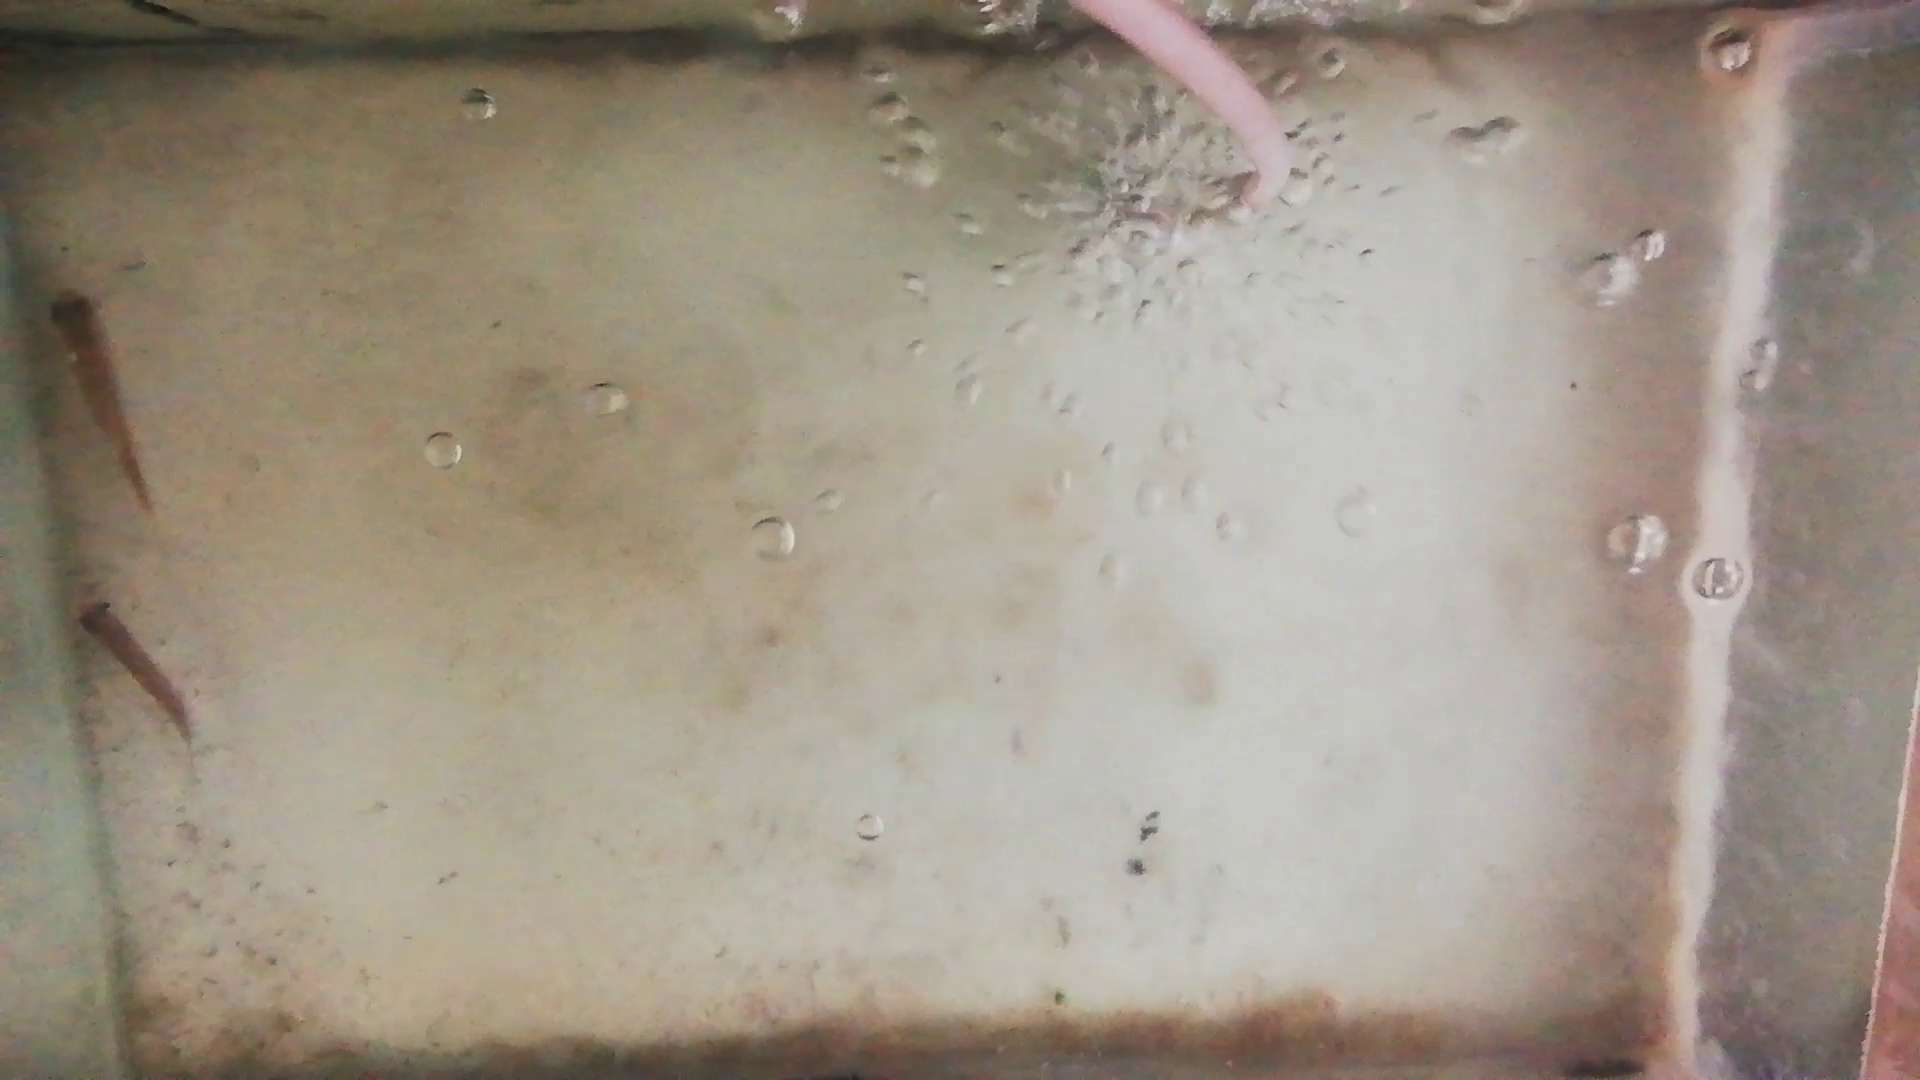fish: (51, 285, 156, 516), (76, 600, 193, 738)
